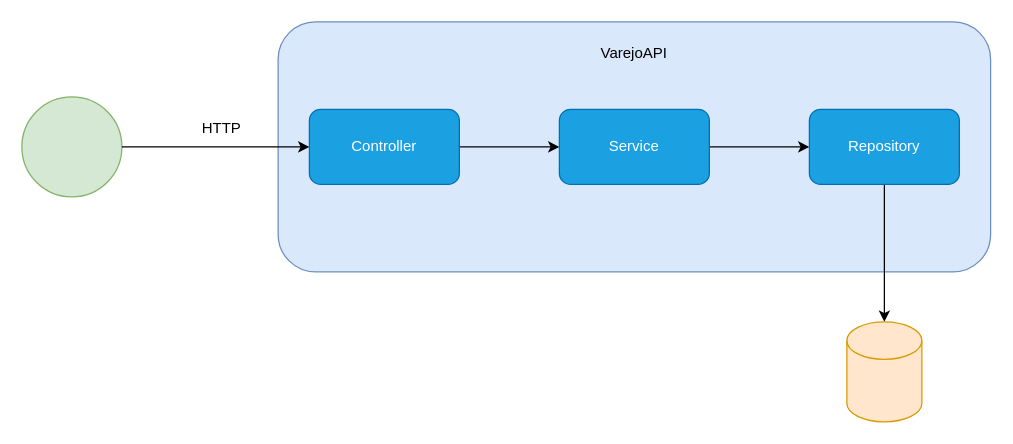
This 1013x444 diagram has some shape labels left out. Each missing label, with the centre of its shape:
"Client" belongs at point 71,146.
"DB" belongs at point 884,371.
